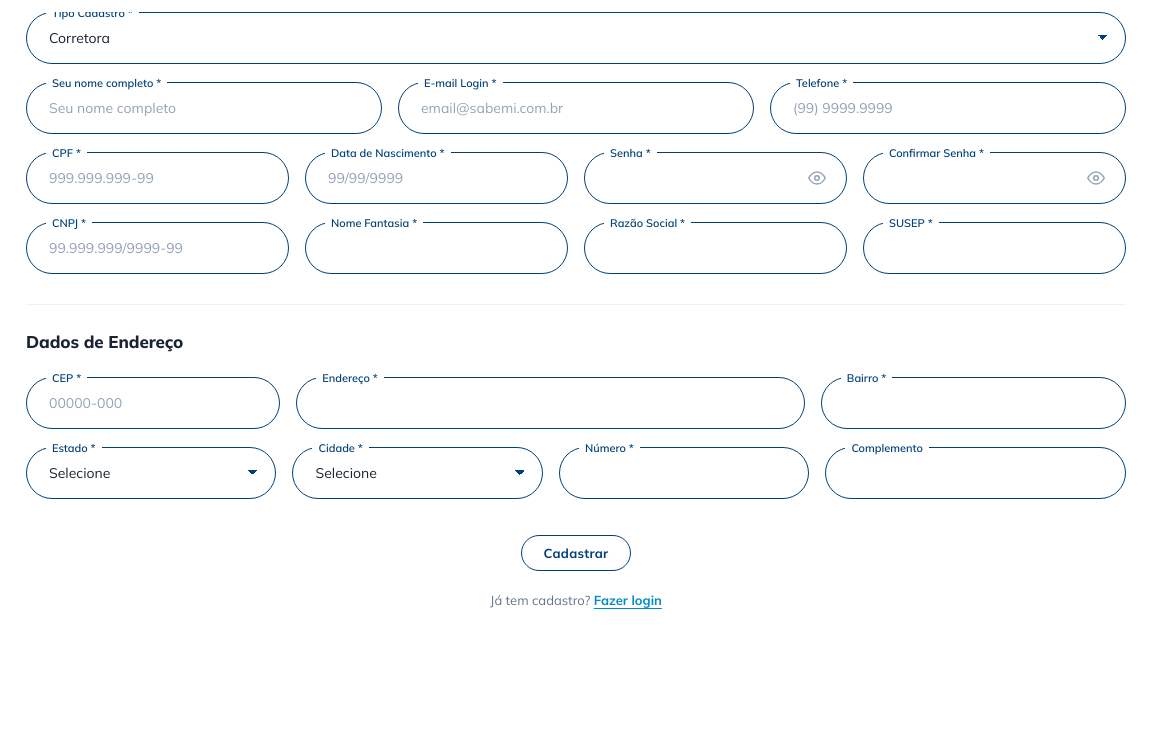
Test case: CadastroForm › shows CADASTUR label when tipoCadastro is agencia
This screenshot has width=1152, height=732.
Select "Agência de Viagem" in the dropdown with id "tipoCadastro" at (576, 38), box [26, 12, 1126, 64]
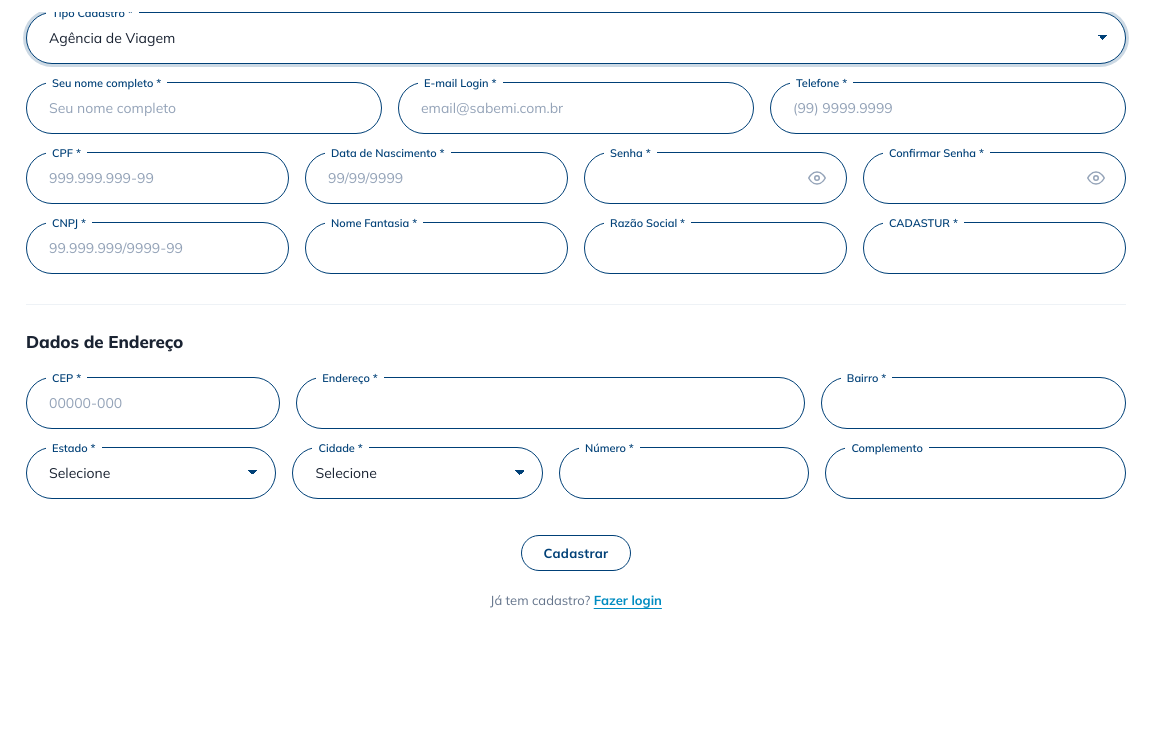
Now the text "CADASTUR *" is shown, box [883, 215, 964, 232]
